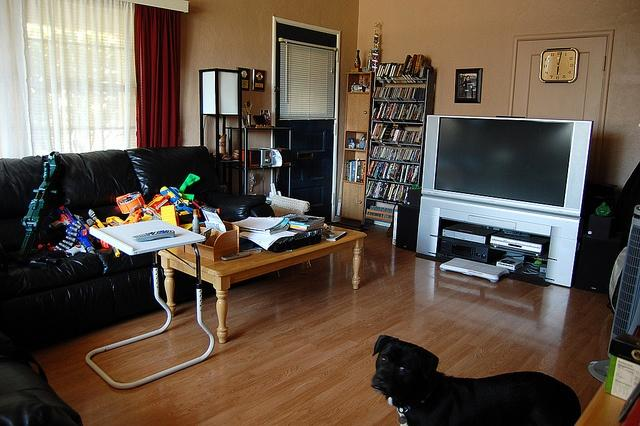AIO PC-Monitor-TV: (418, 113, 593, 218)
Meja: (157, 221, 368, 345)
